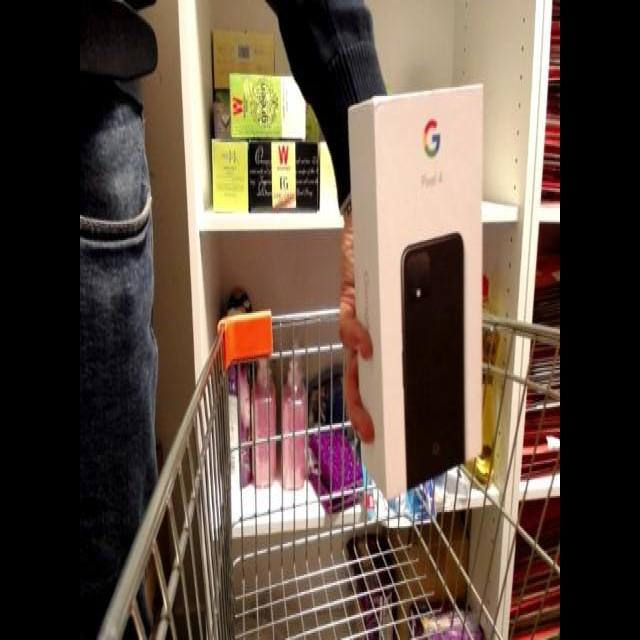Pixel 4: (340, 69, 506, 502)
